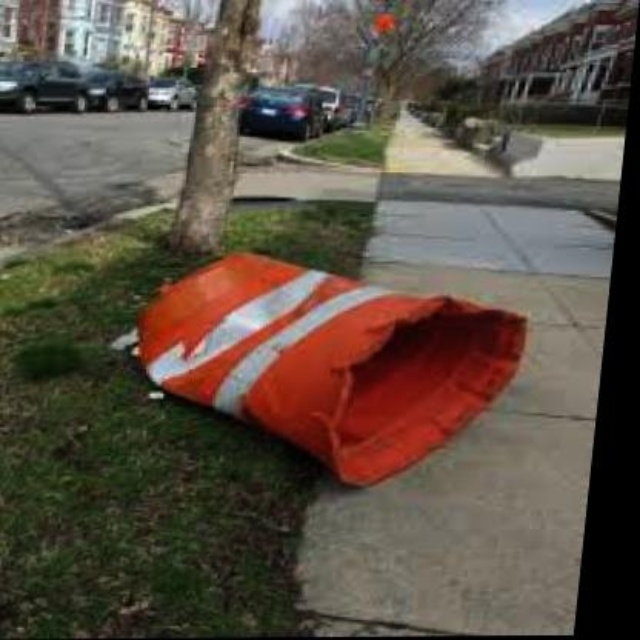obstacle: (120, 243, 554, 508)
